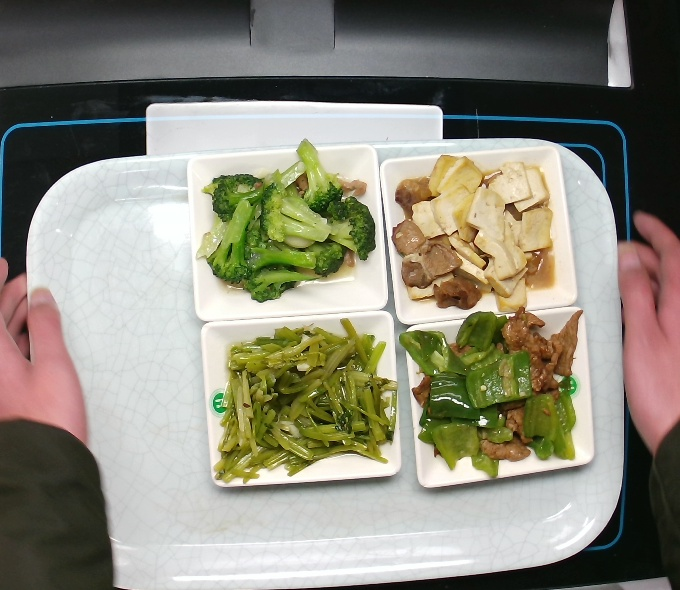wcq-DouFuRouPian: (383, 154, 569, 314)
wcq-QinCai: (199, 318, 402, 476)
wcq-QingJiaoChaoRou: (398, 310, 595, 473)
wcq-XiLanHua: (199, 130, 375, 302)
